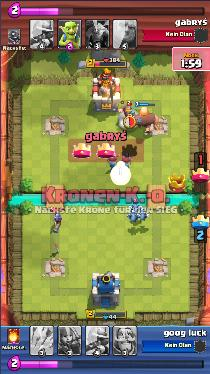ally_giant: (131, 107, 159, 133)
ally_minion: (128, 212, 139, 223), (139, 209, 149, 221), (132, 201, 139, 211)
ally_wallbreaker: (107, 153, 119, 172), (122, 151, 133, 169)
enemy_knight: (118, 103, 135, 121)
enemy_musketeer: (51, 211, 63, 232)
